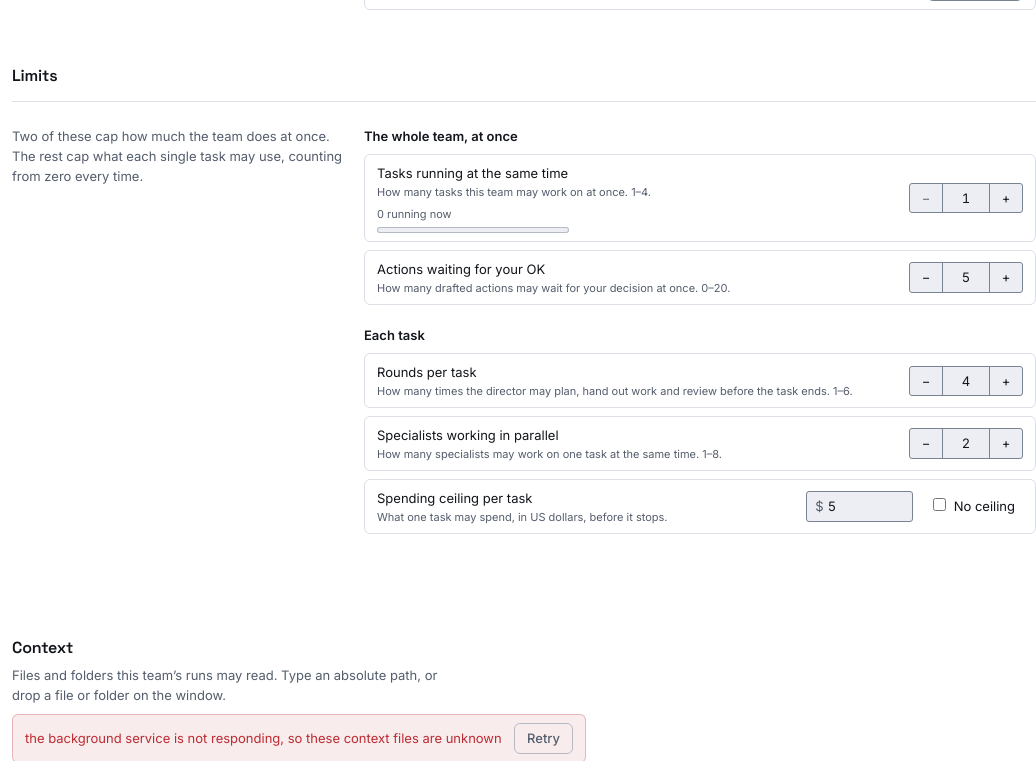
Test: Charter - the form's own checks › marks an out-of-range ceiling, says the range, and refuses to save it
The image size is (1036, 761).
(page scrolled)
Expected: the text "1–6." is shown, [377,384,897,399]
Replace the text in the field labelled "Rounds per task" with "9": (966, 381) [942,366,990,395]
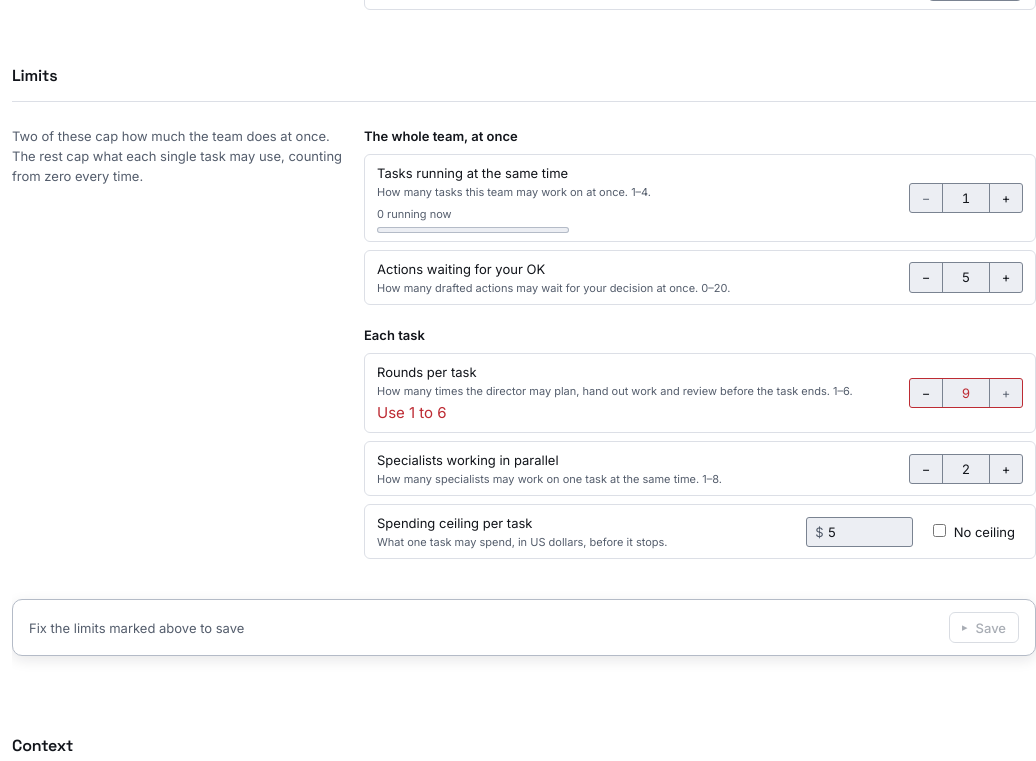
Expected: the text "Use 1 to 6" is shown, [377,403,447,422]
Expected: the text "Fix the limits marked above to save" is shown, [29,618,244,638]
Expected: the button "Save" is disabled, [949,612,1019,643]
# A blank count is not "no ceiling": only the budget has that meaning.
Clear the field labelled "Rounds per task": (966, 393) [942,379,990,407]
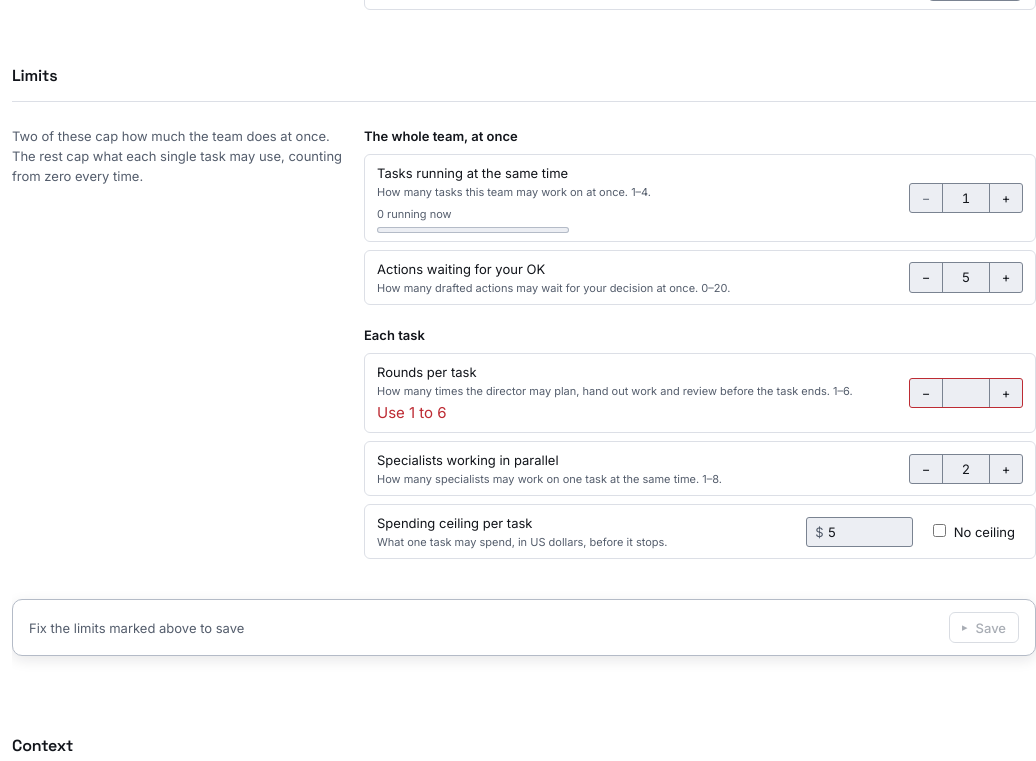
Expected: the field labelled "Rounds per task" is marked as invalid
In the field labelled "Rounds per task": (966, 393) [942,379,990,407], type "5"
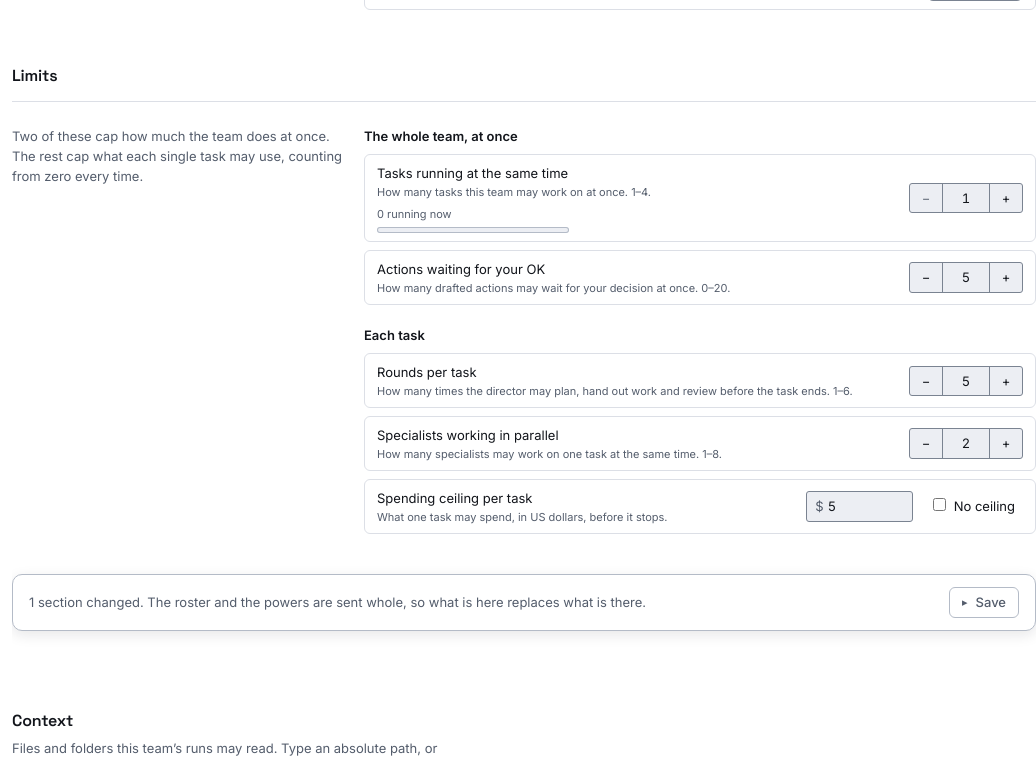
Expected: the button "Save" is enabled, [949,587,1019,618]
